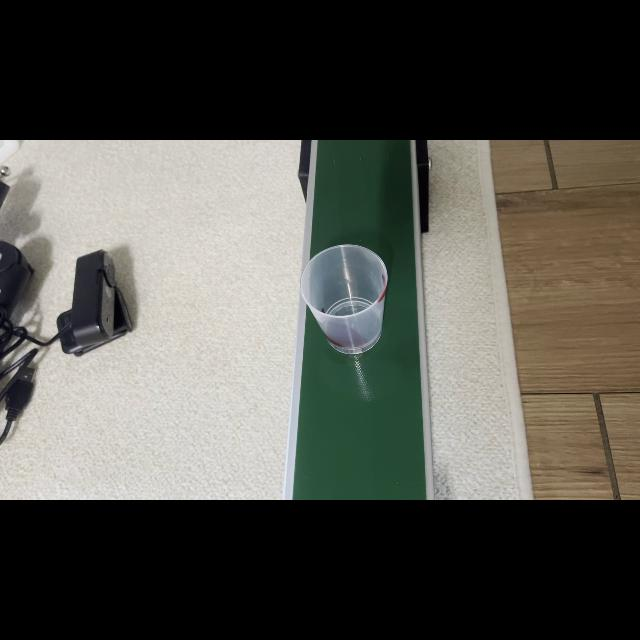dirty: (308, 248, 386, 352)
